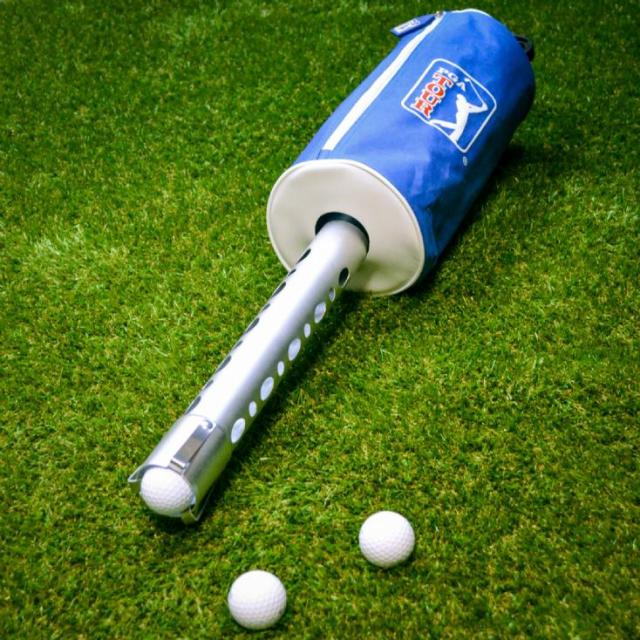ball: (351, 502, 426, 574)
